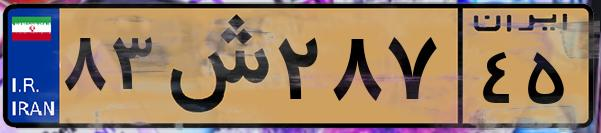2: (270, 28, 330, 110)
3: (110, 28, 158, 98)
4: (475, 38, 525, 113)
5: (525, 38, 570, 115)
7: (385, 28, 445, 110)
8: (330, 28, 385, 110), (57, 26, 110, 100)
ش: (158, 12, 270, 120)
